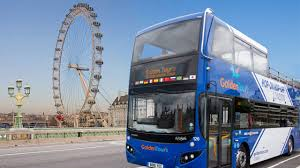bus: (128, 9, 300, 168)
